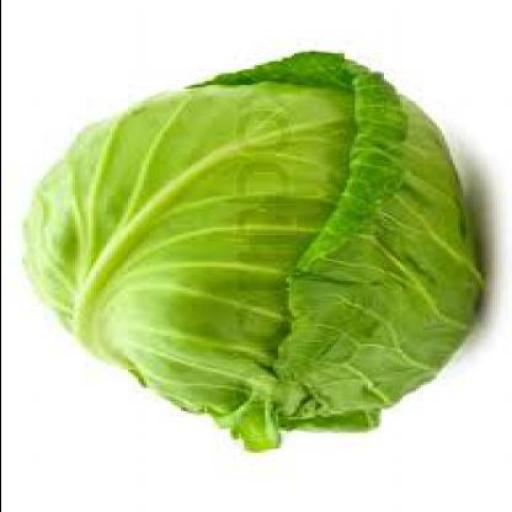biodegradable: (21, 51, 484, 457)
